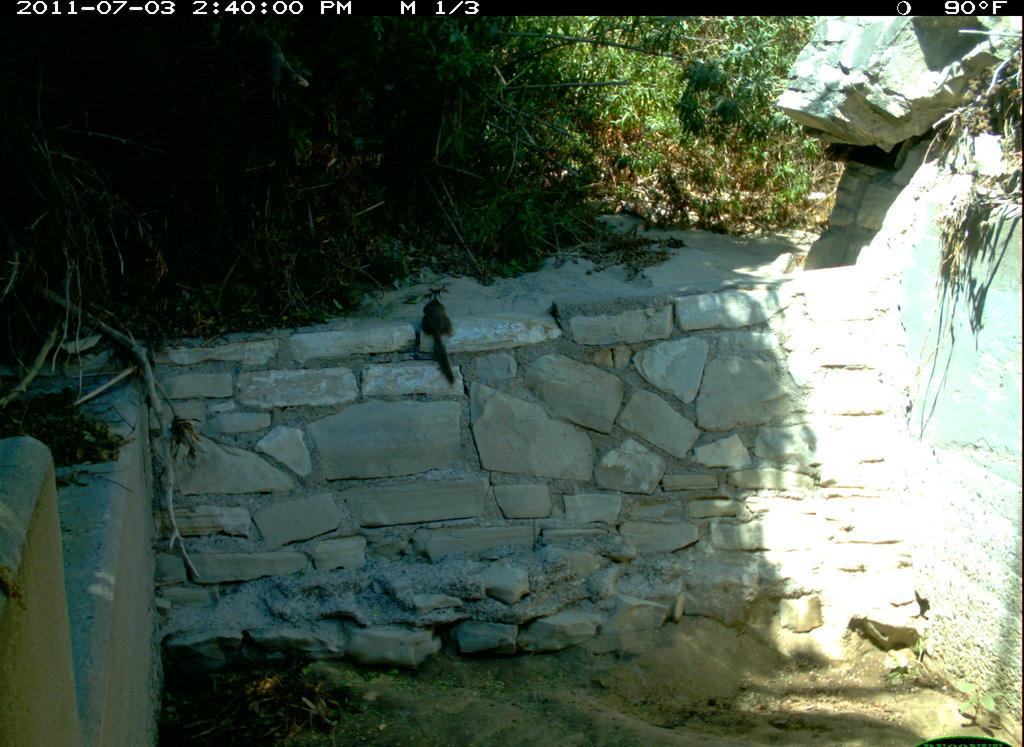squirrel: (415, 287, 469, 397)
